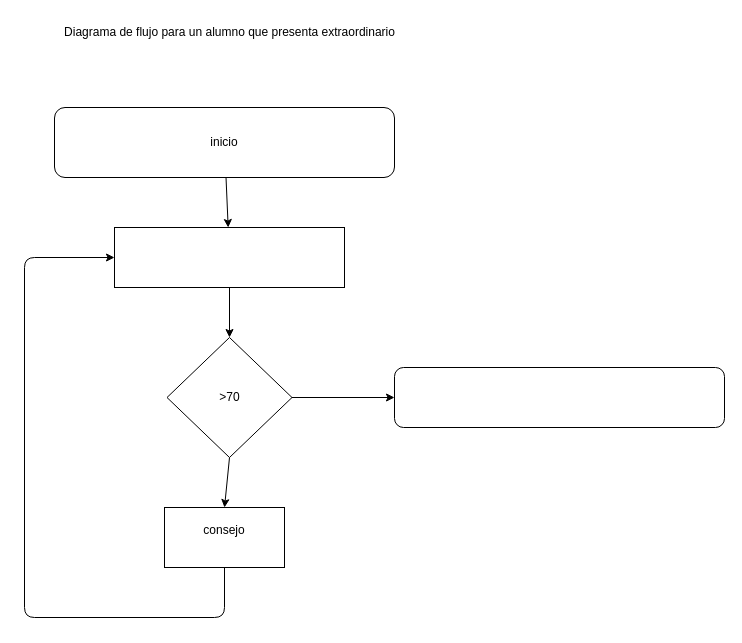
The diagram is 742 pixels wide and 643 high, and some of its shapes have lost their labels. Each missing label, with the centre of its shape:
fin: (559,397)
presentar extraodinario de la materia de calculo: (229,257)
